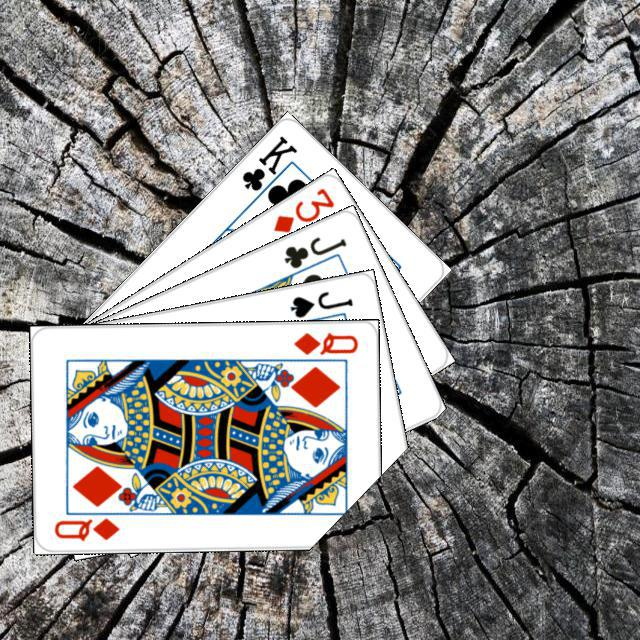3d: (268, 183, 336, 235)
Jc: (279, 231, 349, 271)
Js: (285, 286, 355, 320)
Kc: (237, 130, 299, 206)
Qd: (49, 513, 121, 543), (289, 328, 359, 357)
